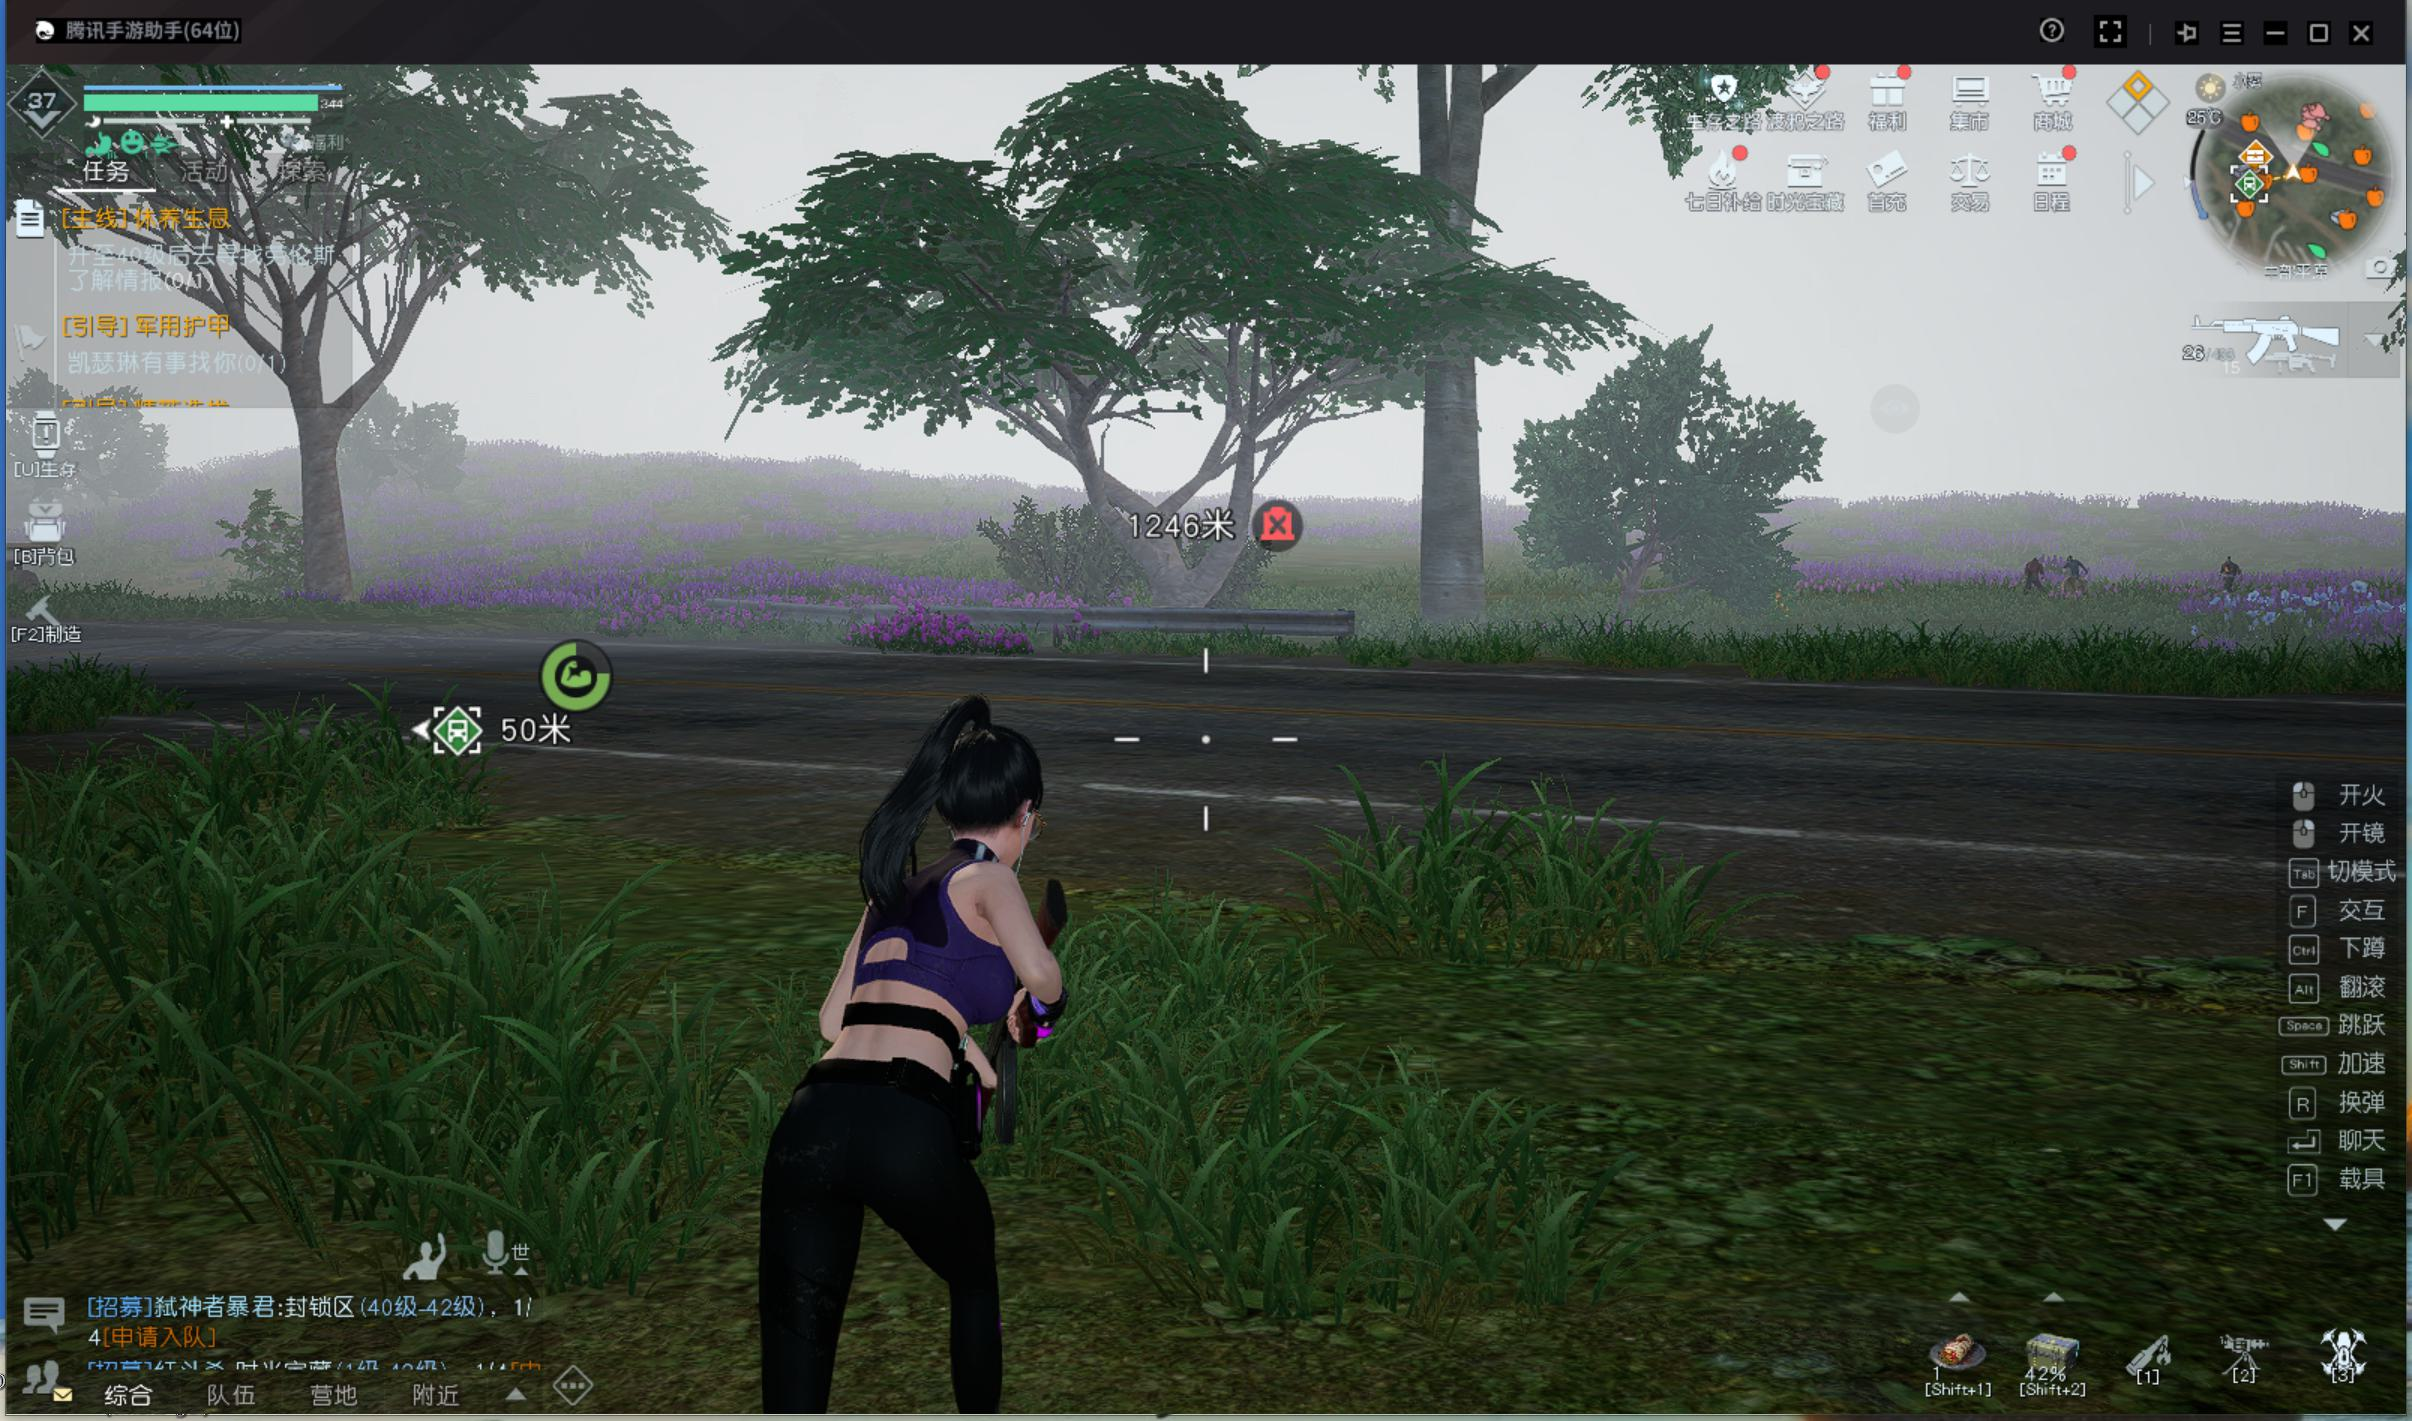tree: (1401, 428, 1505, 633), (282, 433, 370, 606)
